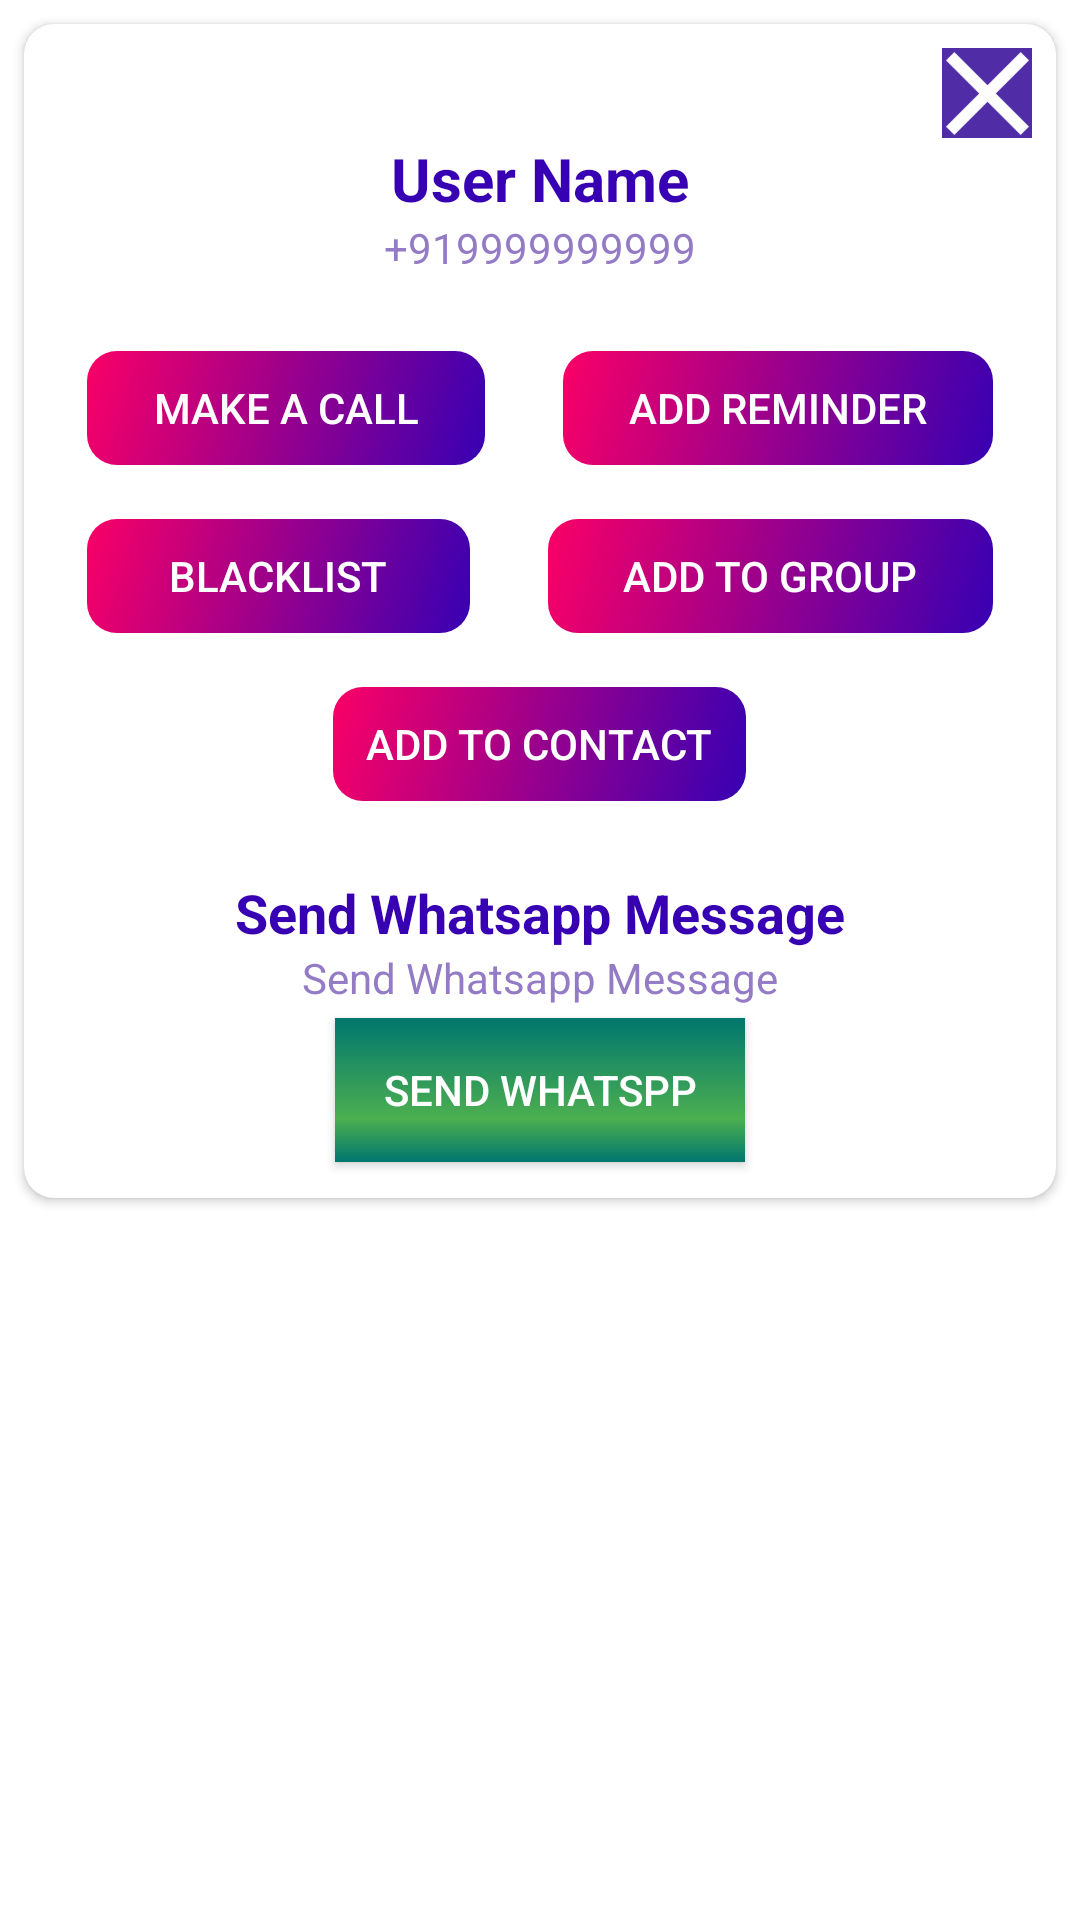

Icons on this 1080 x 1920 Android screen, each with its box as (x1, y1, x2, y2):
close: (942, 48, 1032, 138)
